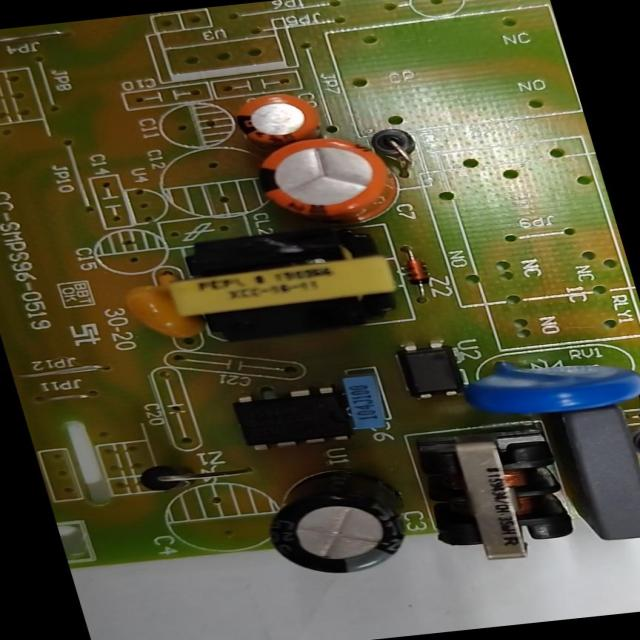Cap1: (247, 132, 401, 225)
Cap2: (229, 91, 325, 147)
Cap3: (252, 463, 416, 581)
MOSFET: (229, 385, 355, 450)
Mov: (460, 351, 639, 422)
Transformer: (163, 222, 405, 343), (409, 432, 584, 567)
